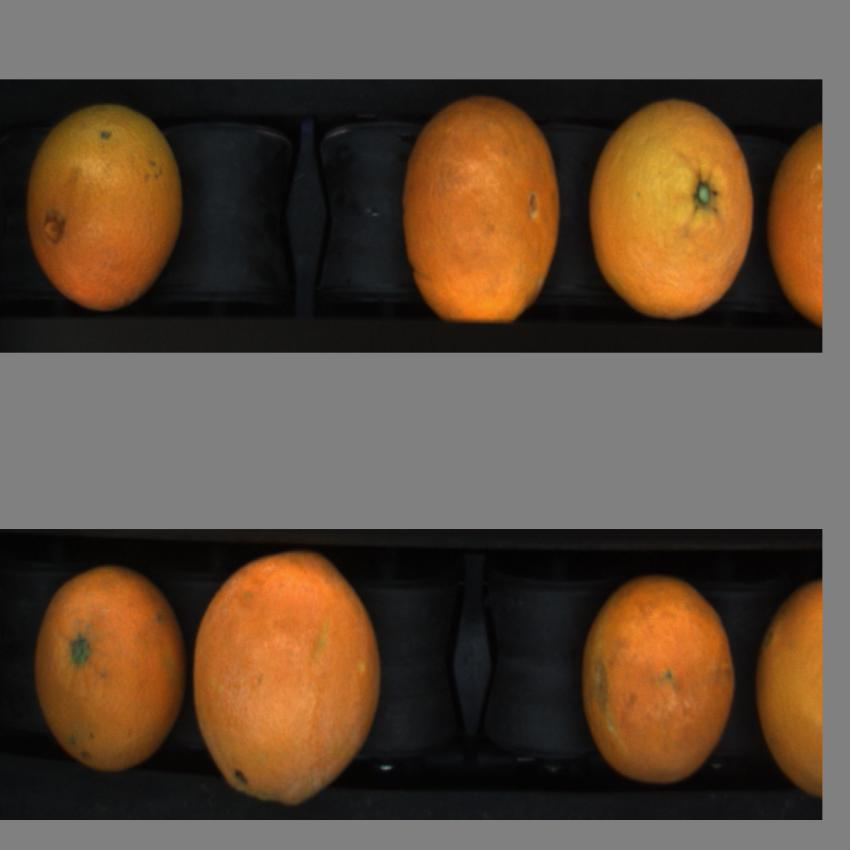Buen estado: (190, 546, 390, 812), (397, 87, 563, 334), (586, 86, 754, 330), (24, 100, 192, 321), (574, 567, 736, 792), (29, 557, 188, 781), (753, 568, 822, 811), (767, 104, 824, 336)
